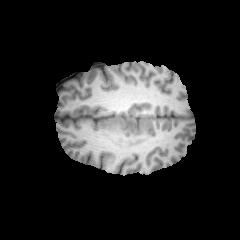glioma: (101, 116, 153, 148)
